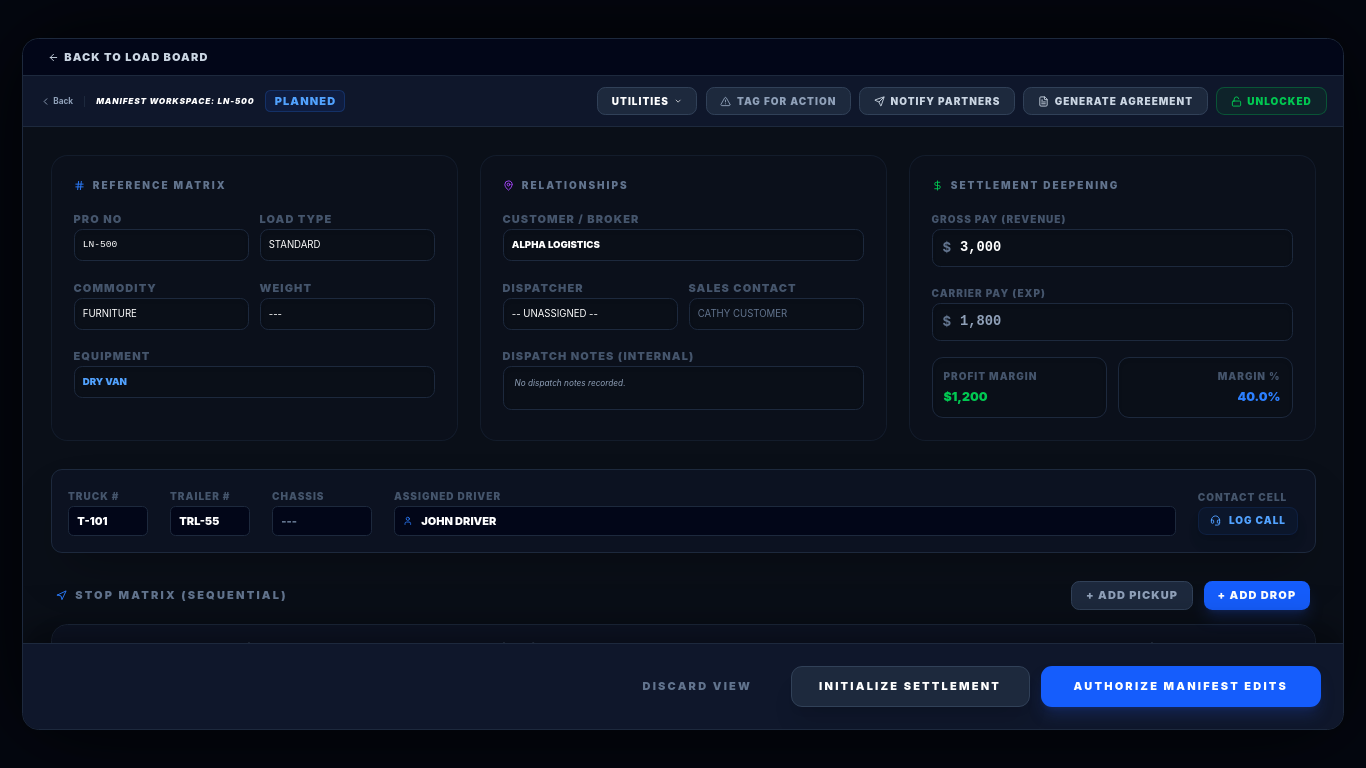
Scenario: LoadDetailView notify partners (STORY-004 Phase 4) › shows an error toast when POST /api/notification-jobs fails with status >= 400
Click the button "Notify Partners": (937, 101) [859, 87, 1015, 115]
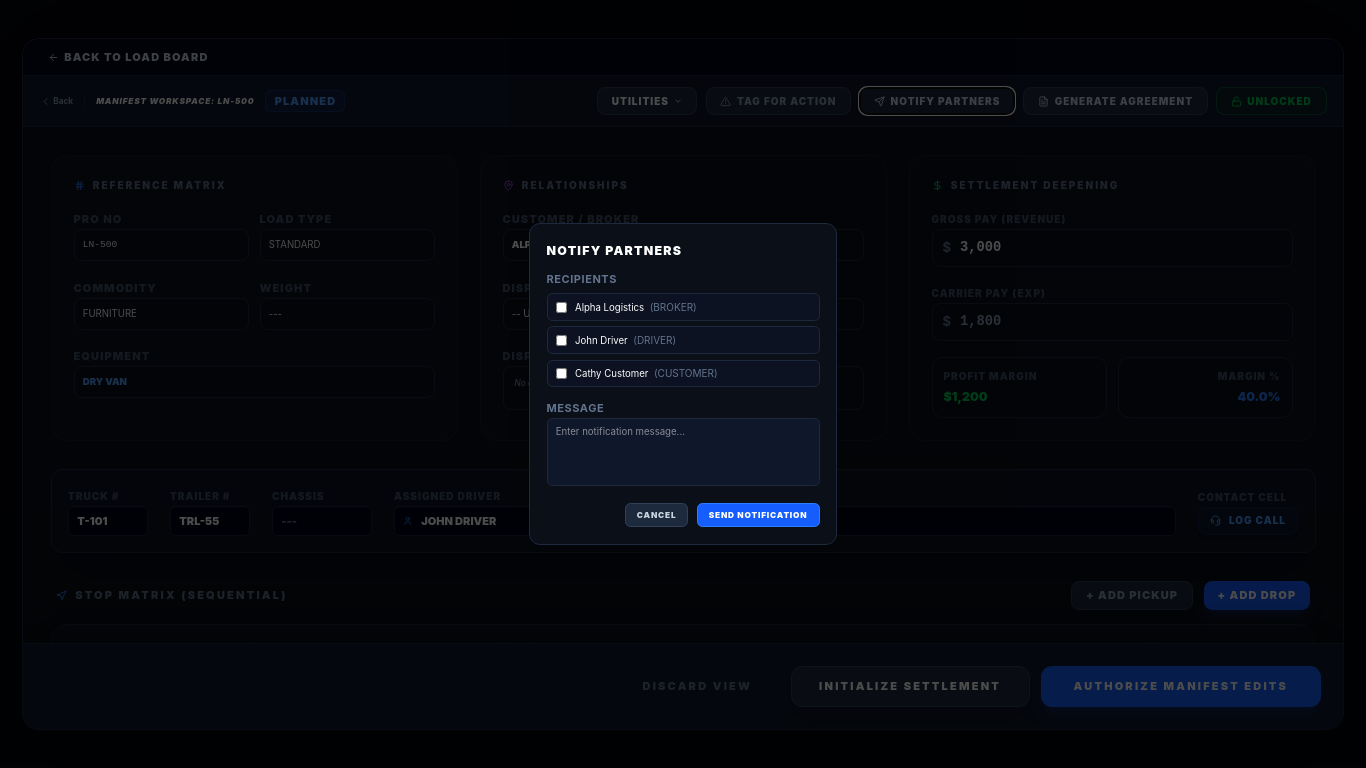
Click the checkbox labelled "Alpha Logistics(broker)": (561, 307) [556, 302, 567, 313]
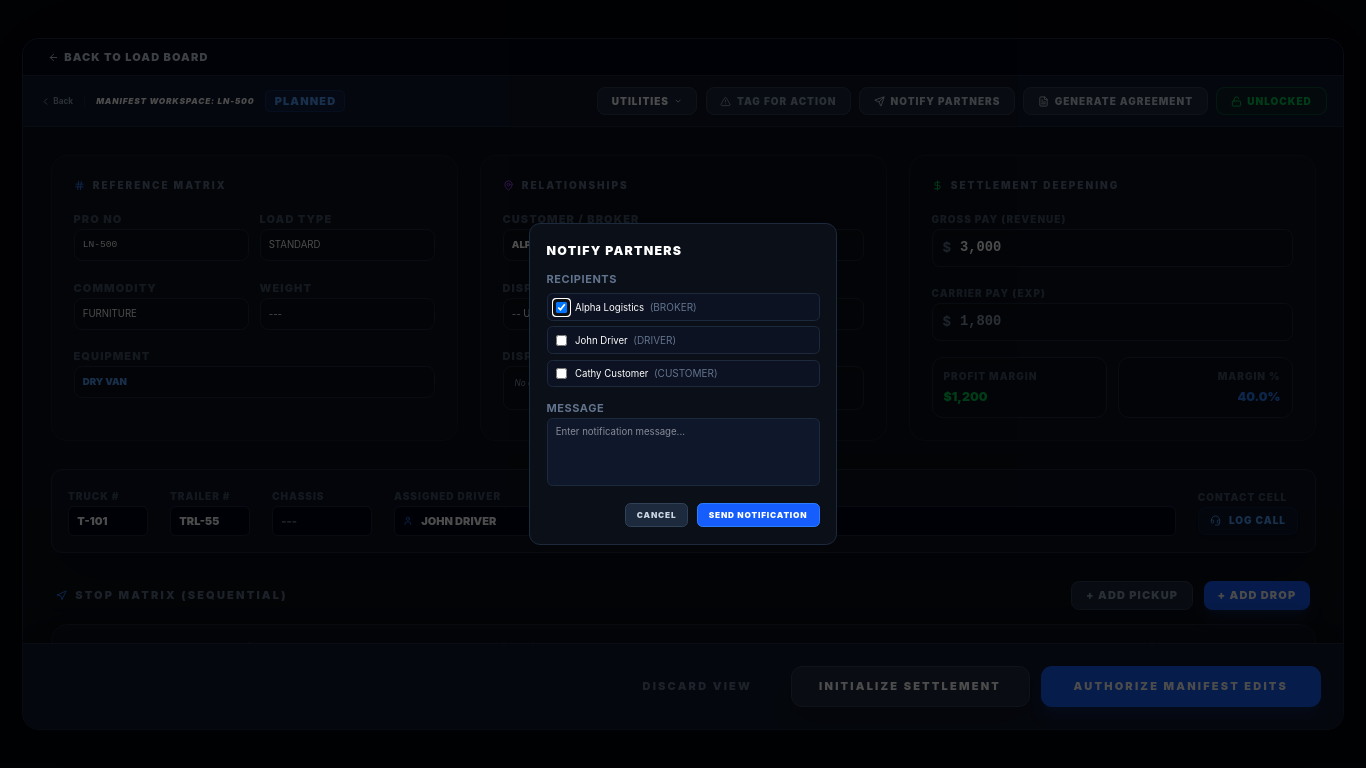
In the text box labelled "Message": (683, 452) [546, 418, 820, 486], type "Hello"
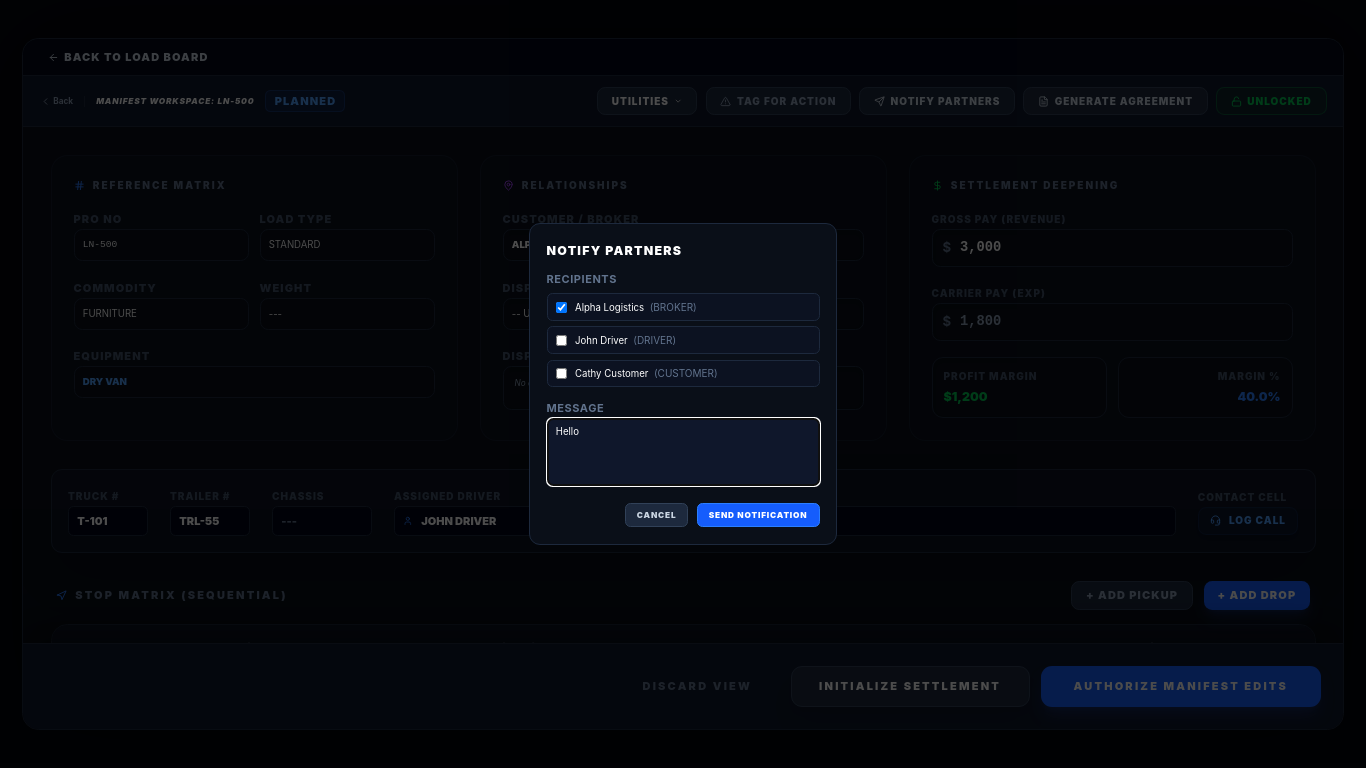
Click the button "Send Notification": (758, 515) [697, 503, 820, 527]
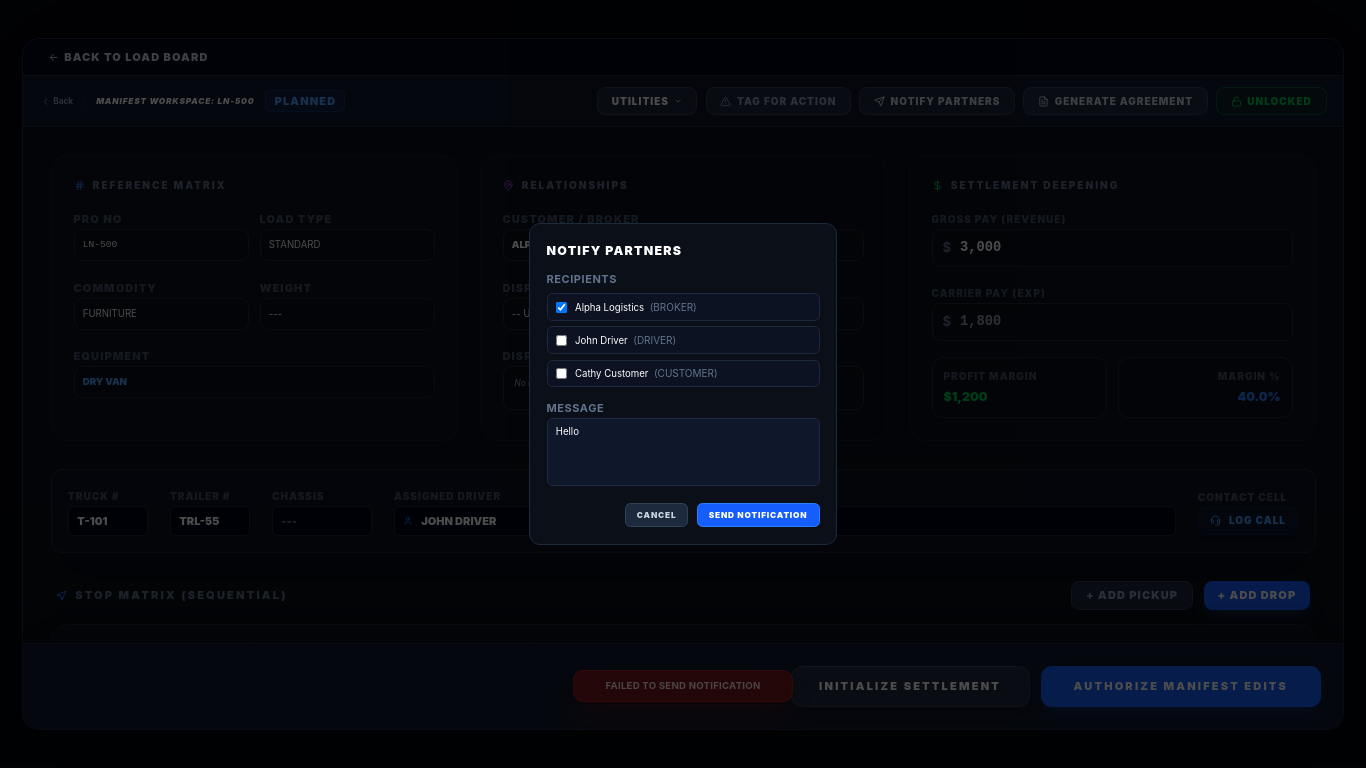
Check: the text "Failed to send notification" is shown, box [573, 670, 793, 702]
